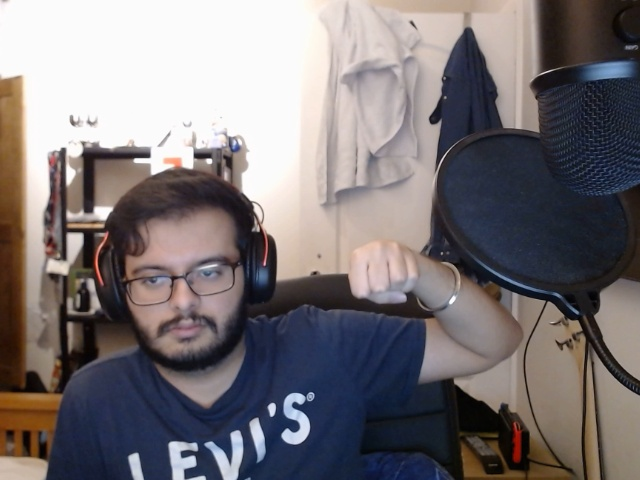Yes: (338, 237, 432, 316)
